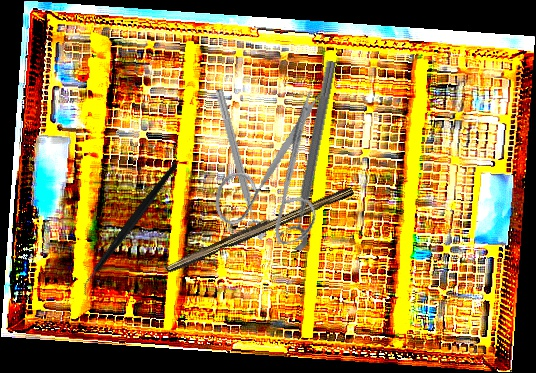Chopper: (50, 160, 211, 299)
Fixation Ring: (274, 57, 342, 252), (203, 87, 267, 245)
Iris Scissors: (192, 86, 357, 260)
Scalpel Handle: (163, 180, 355, 277)
